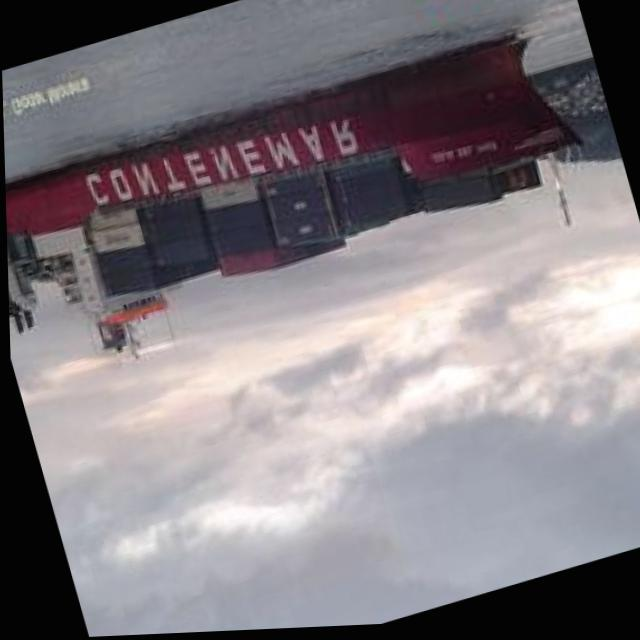ship2: (4, 40, 574, 352)
